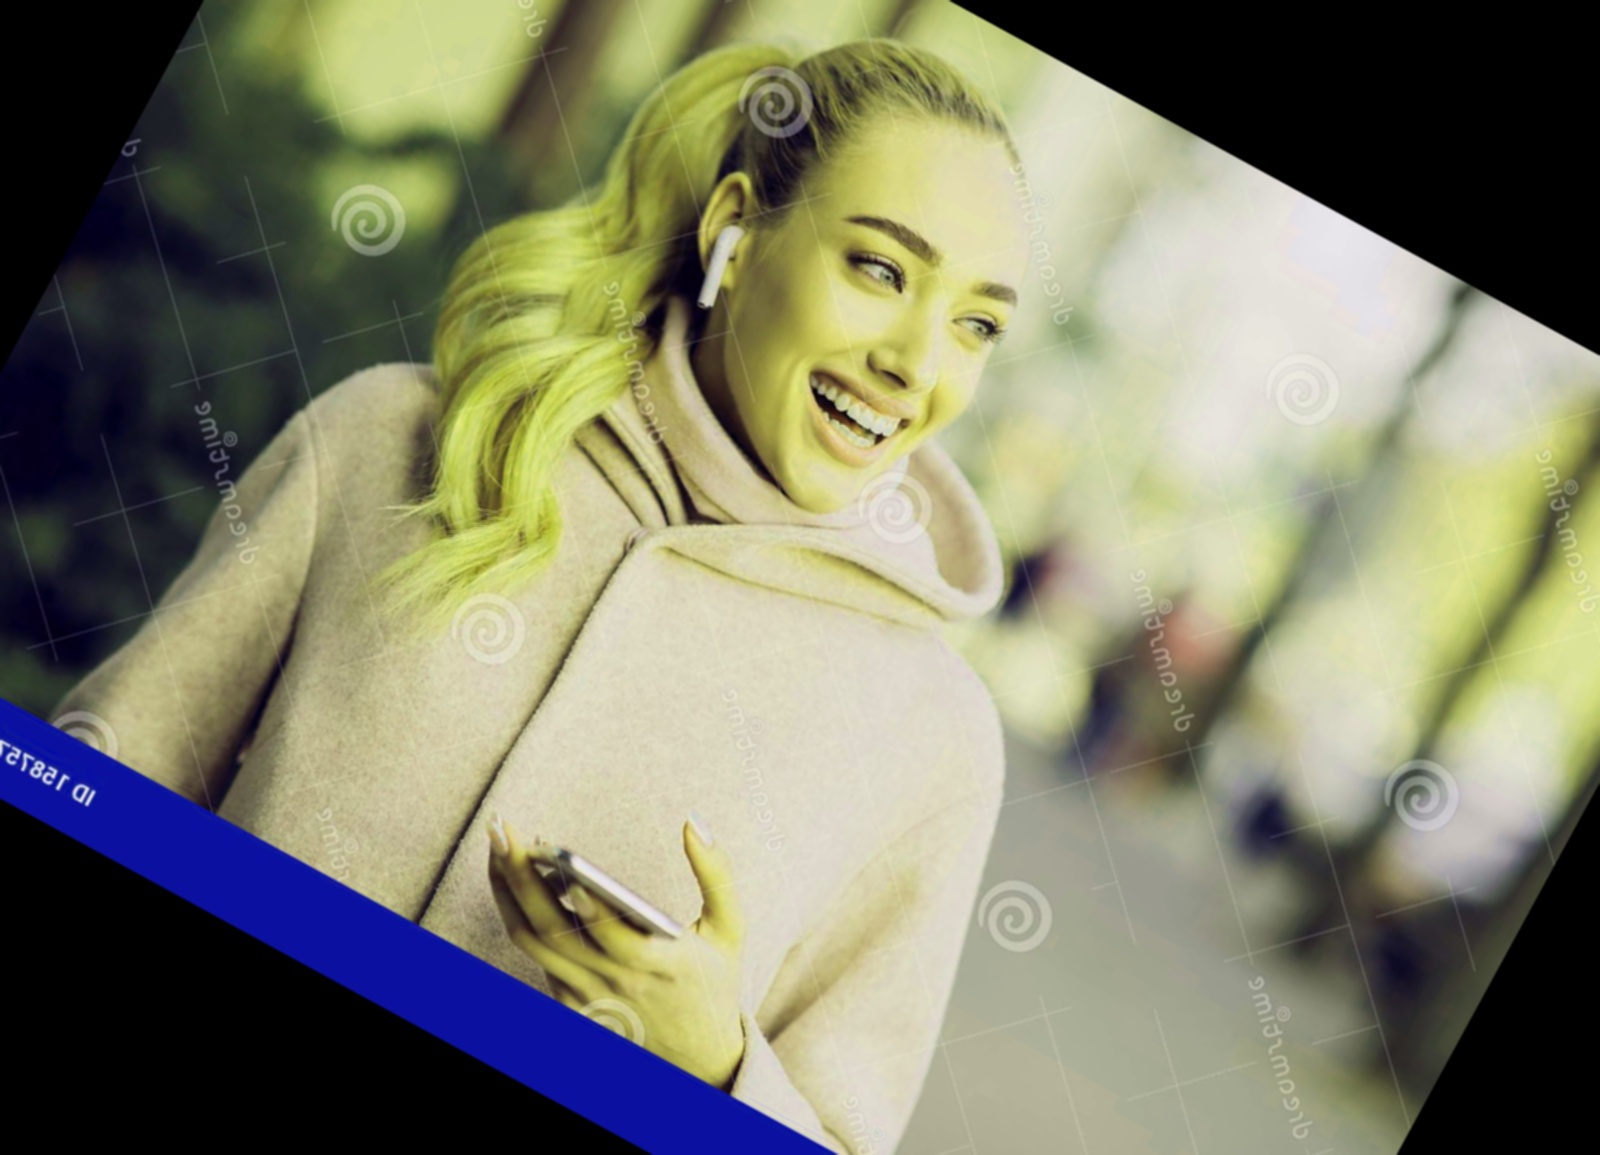earphone: (660, 161, 781, 314)
